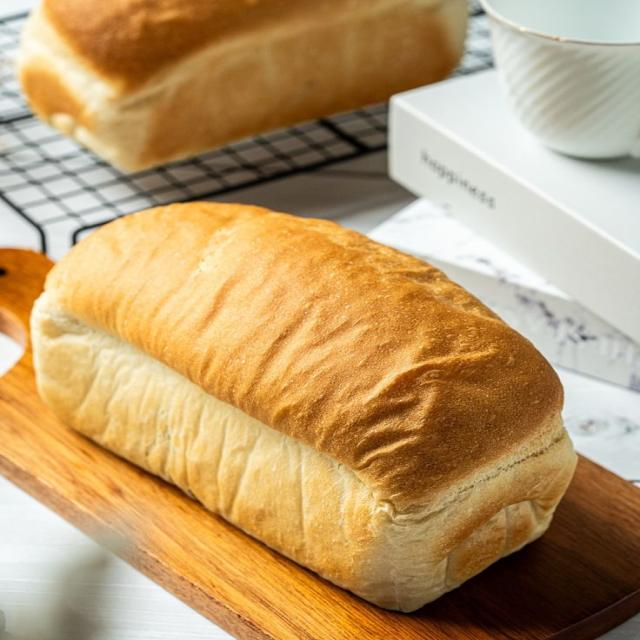bread: (32, 203, 575, 610), (20, 0, 466, 169)
